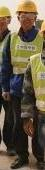boots: (6, 147, 16, 156), (0, 110, 6, 116)
gloves: (22, 117, 34, 136), (0, 95, 7, 114)
hard-hat: (0, 9, 14, 27)
vest: (0, 38, 23, 89)
